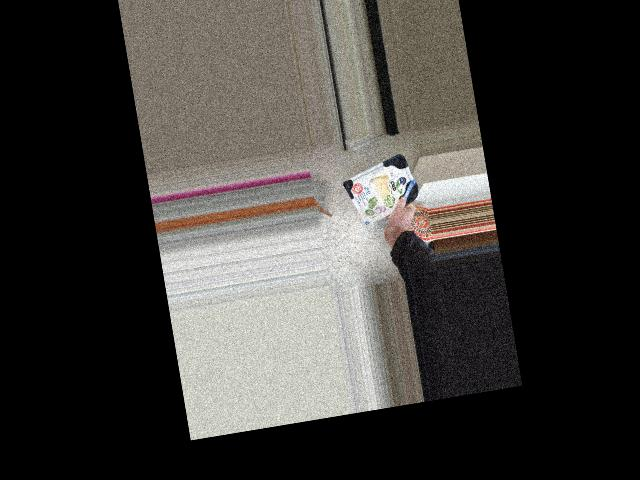cheese: (339, 151, 423, 226)
